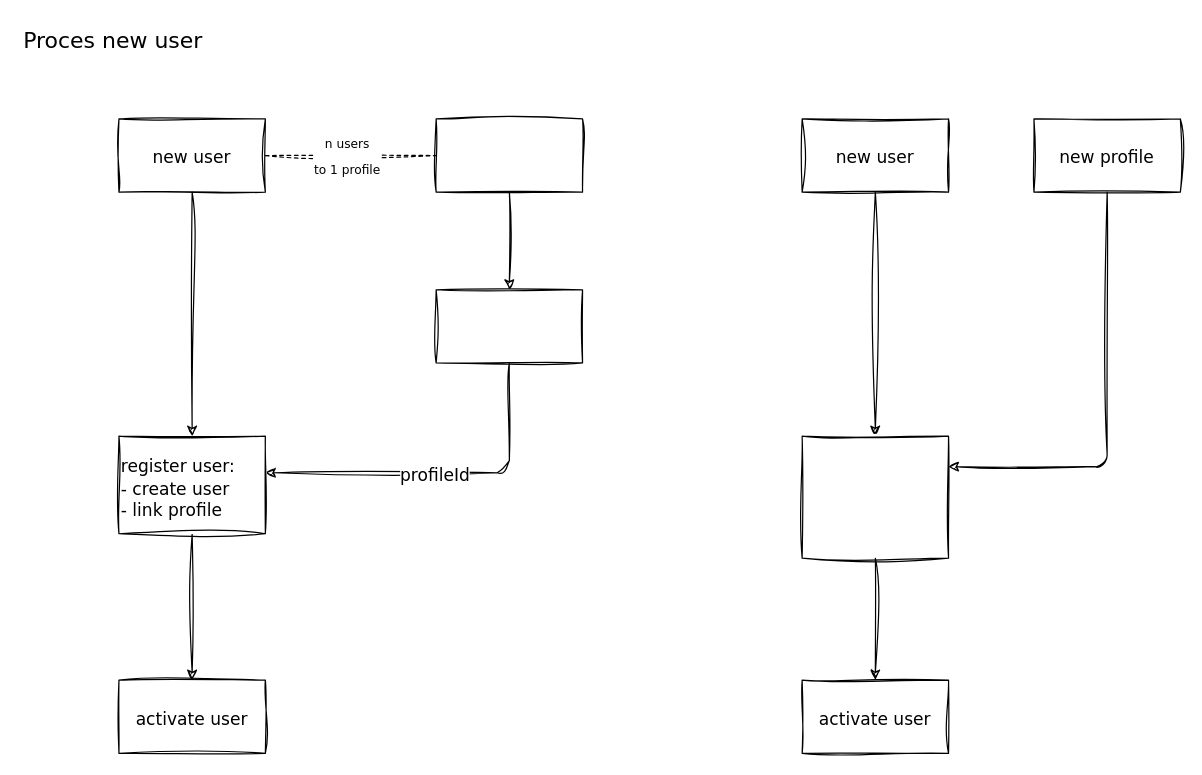
Some shapes in this 1202 by 775 pixel diagram are drawn without their labels. Each missing label, with the centre of its shape:
existing profile: pixel 509 155
login to user with that profile: pixel 509 326
register user: - create profile - create user - link profile: pixel 875 496
